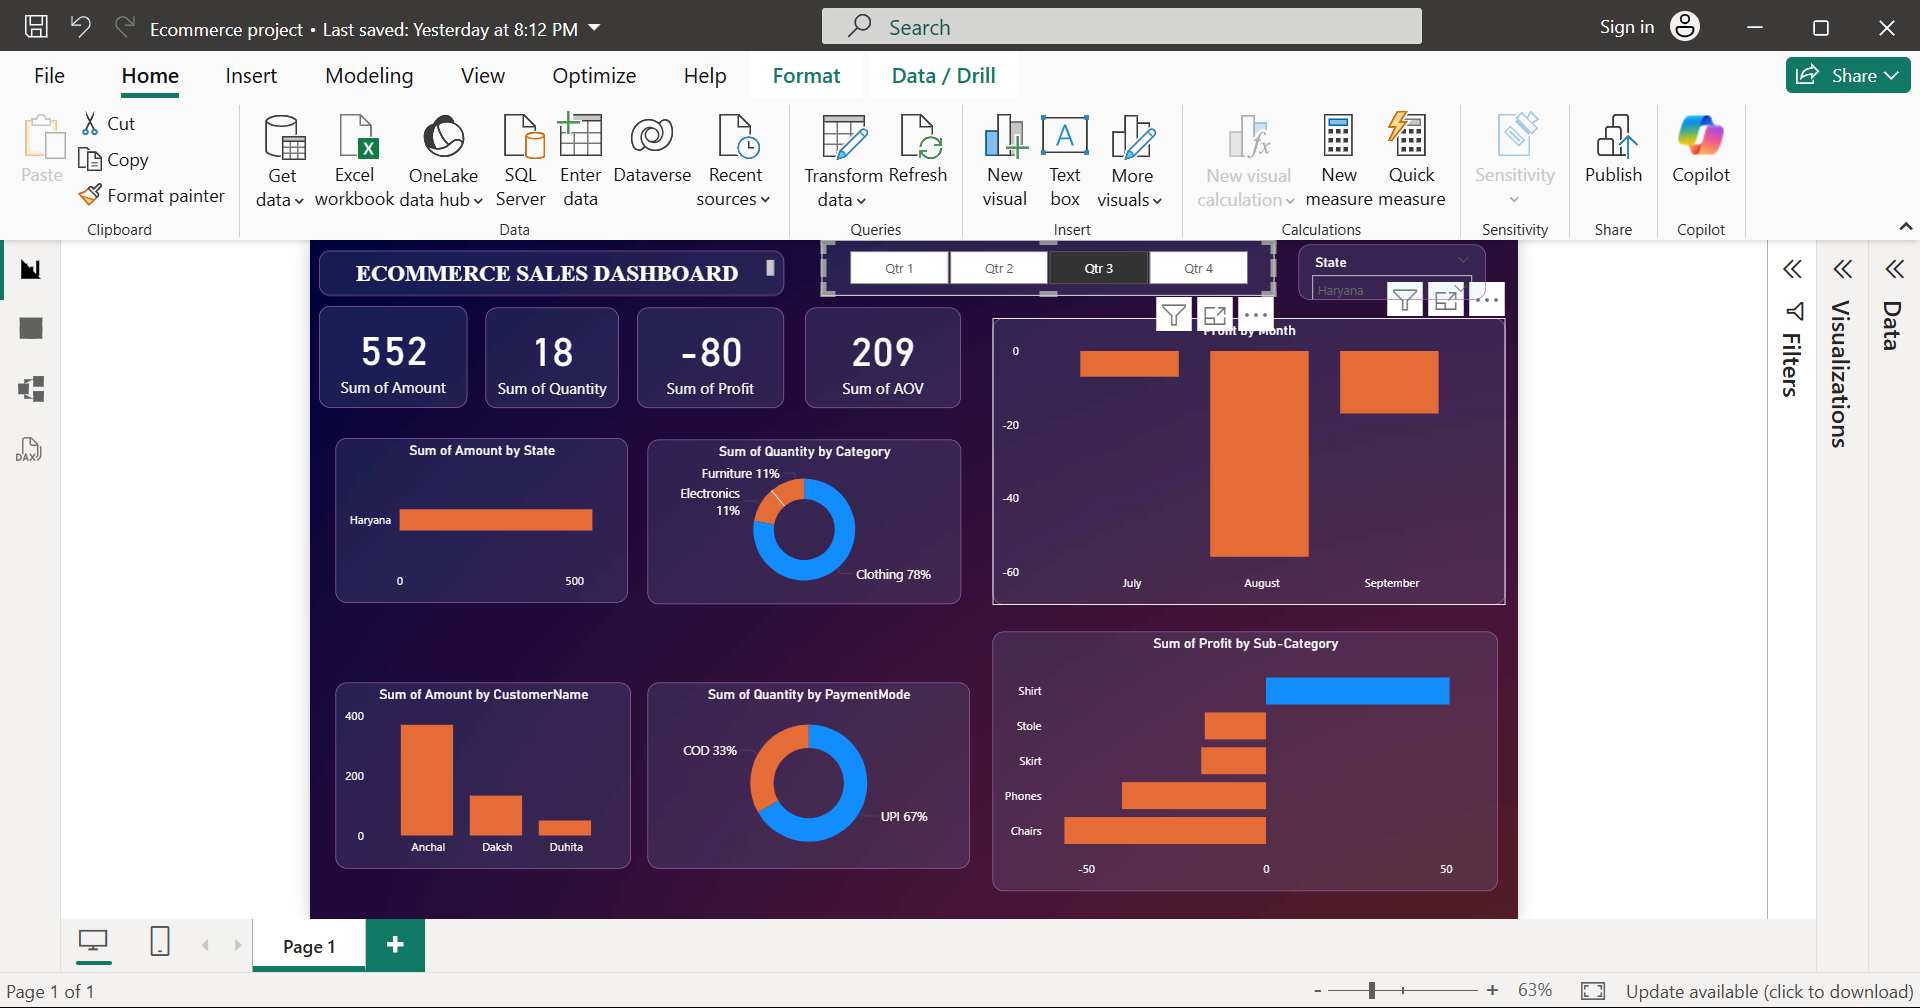

This screenshot's page, from the dashboard's own definition file:
{"tool":"powerbi","page":{"name":"Page 1","canvas":[1280,720],"ordinal":0},"visuals":[{"type":"textbox","box":[9.5,11.1,493.1,47.7],"z":0},{"type":"columnChart","title":"Profit by Month","fields":{"Y":["Sum(Details.Profit)"],"Category":["Orders.Order Date.Variation.Date Hierarchy.Month"]},"box":[723.7,82.7,544,303.8],"z":1000},{"type":"barChart","fields":{"Category":["Details.Sub-Category"],"Y":["Sum(Details.Profit)"]},"box":[723.7,415.1,536,275.2],"z":2000},{"type":"donutChart","fields":{"Category":["Details.Category"],"Y":["Sum(Details.Quantity)"]},"box":[357.9,211.6,332.4,175],"z":3000},{"type":"donutChart","fields":{"Category":["Details.PaymentMode"],"Y":["Sum(Details.Quantity)"]},"box":[357.9,469.2,342,197.2],"z":4000},{"type":"card","fields":{"Values":["Sum(Details.Amount)"]},"box":[9.5,70,157.5,108.2],"z":5000},{"type":"card","fields":{"Values":["Sum(Details.Quantity)"]},"box":[186.1,71.6,141.6,106.6],"z":6000},{"type":"card","fields":{"Values":["Sum(Details.Profit)"]},"box":[346.8,71.6,155.9,106.6],"z":7000},{"type":"card","fields":{"Values":["Sum(Details.AOV)"]},"box":[524.9,71.6,165.4,106.6],"z":8000},{"type":"barChart","fields":{"Y":["Sum(Details.Amount)"],"Category":["Orders.State"]},"box":[27,210,310.2,175],"z":9000},{"type":"columnChart","fields":{"Category":["Orders.CustomerName"],"Y":["Sum(Details.Amount)"]},"box":[27,469.2,313.4,197.2],"z":10000},{"type":"slicer","fields":{"Values":["Orders.Order Date.Variation.Date Hierarchy.Quarter"]},"box":[542.4,0,480.4,58.9],"z":11000},{"type":"slicer","fields":{"Values":["Orders.State"]},"box":[1048.2,4.8,198.8,58.9],"z":12000}]}

Visuals, with their boxes on the page's 1280x720 design canvas (x1, y1, x2, y2). These are canvas units, not pixel positions in the 1920x1008 screenshot, which may show the page scaled, cropped or inside an application window:
textbox: select_region(10, 11, 503, 59)
"Profit by Month" columnChart: select_region(724, 83, 1268, 386)
barChart - Details.Sub-Category x Sum(Details.Profit): select_region(724, 415, 1260, 690)
donutChart - Details.Category x Sum(Details.Quantity): select_region(358, 212, 690, 387)
donutChart - Details.PaymentMode x Sum(Details.Quantity): select_region(358, 469, 700, 666)
card - Sum(Details.Amount): select_region(10, 70, 167, 178)
card - Sum(Details.Quantity): select_region(186, 72, 328, 178)
card - Sum(Details.Profit): select_region(347, 72, 503, 178)
card - Sum(Details.AOV): select_region(525, 72, 690, 178)
barChart - Sum(Details.Amount) x Orders.State: select_region(27, 210, 337, 385)
columnChart - Orders.CustomerName x Sum(Details.Amount): select_region(27, 469, 340, 666)
slicer - Orders.Order Date.Variation.Date Hierarchy.Quarter: select_region(542, 0, 1023, 59)
slicer - Orders.State: select_region(1048, 5, 1247, 64)
